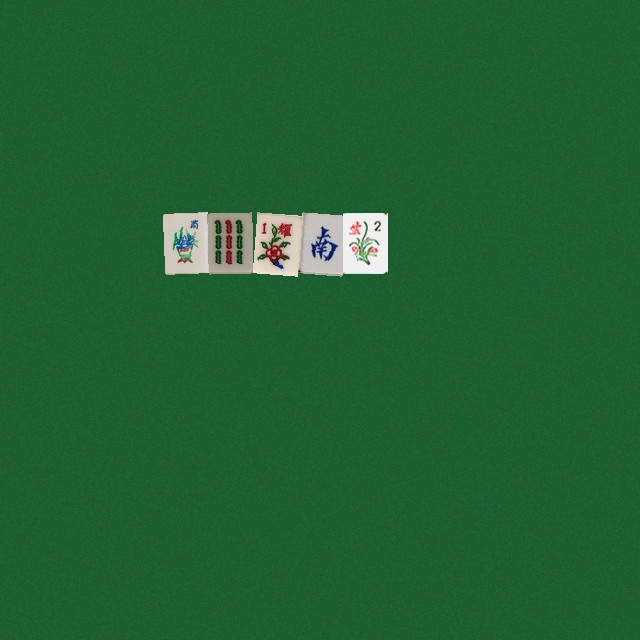tile: (162, 212, 207, 273), (207, 212, 252, 273), (252, 212, 297, 273), (297, 212, 342, 273), (342, 212, 387, 273)
